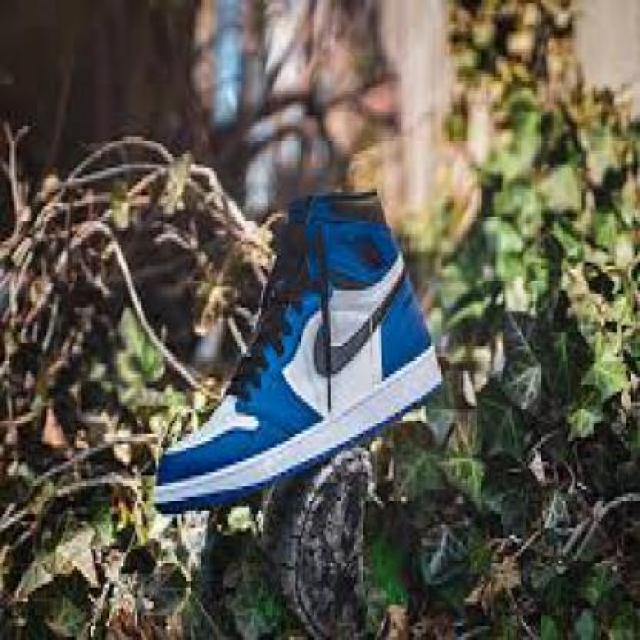Nike: (310, 258, 405, 374)
